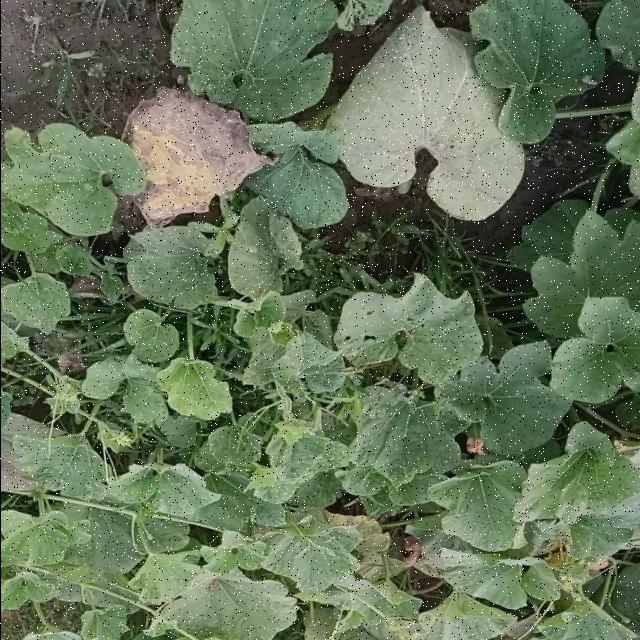plant: (2, 0, 640, 640)
